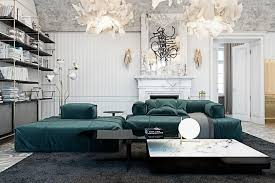Lamp: (46, 57, 77, 102)
Sofa: (14, 101, 124, 155), (130, 98, 245, 135)
Table: (147, 136, 273, 169), (98, 129, 159, 163)
